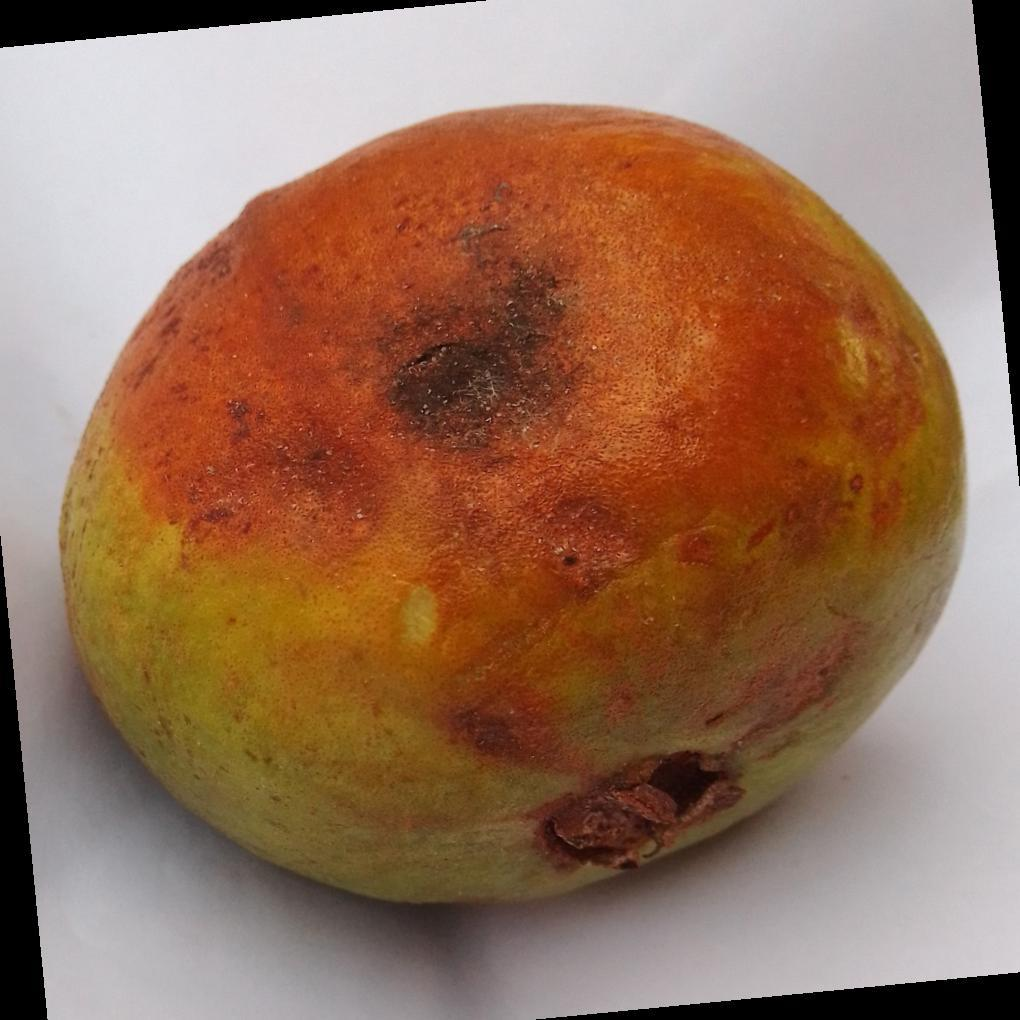FreshOrange: (57, 105, 968, 911)
